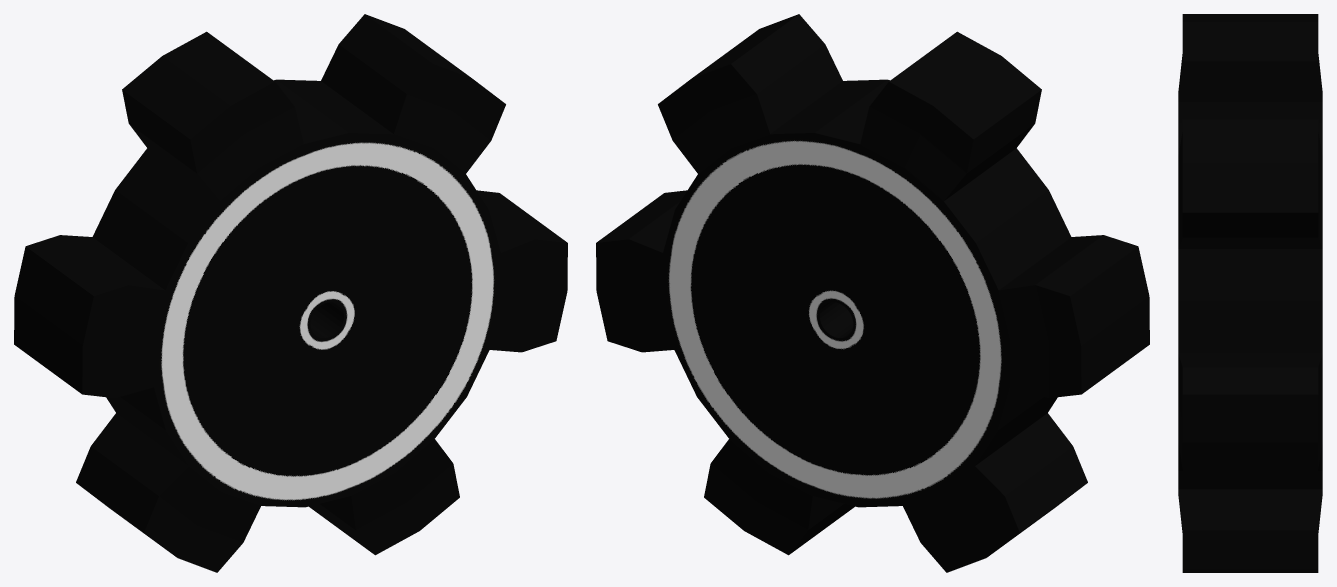
File: TitleGear.obj
3 renders of one model, left to right at view 1: azimuth 30°, elevation 25°; view 2: azimuth 150°, elevation 25°; view 3: azimuth 270°, elevation 25°, orthographic.
Visible parts, largest first — view 1: Gear_S; view 2: Gear_S; view 3: Gear_S.
Part boxes in pixels (box(x1,y1,x2,y2)): Gear_S: box(14, 14, 567, 572); Gear_S: box(596, 14, 1149, 572); Gear_S: box(1178, 14, 1322, 572).
Bounding box in the file's own units: 3.47 × 3.4 × 0.9.
Materials: 1 (1 with a texture image).
